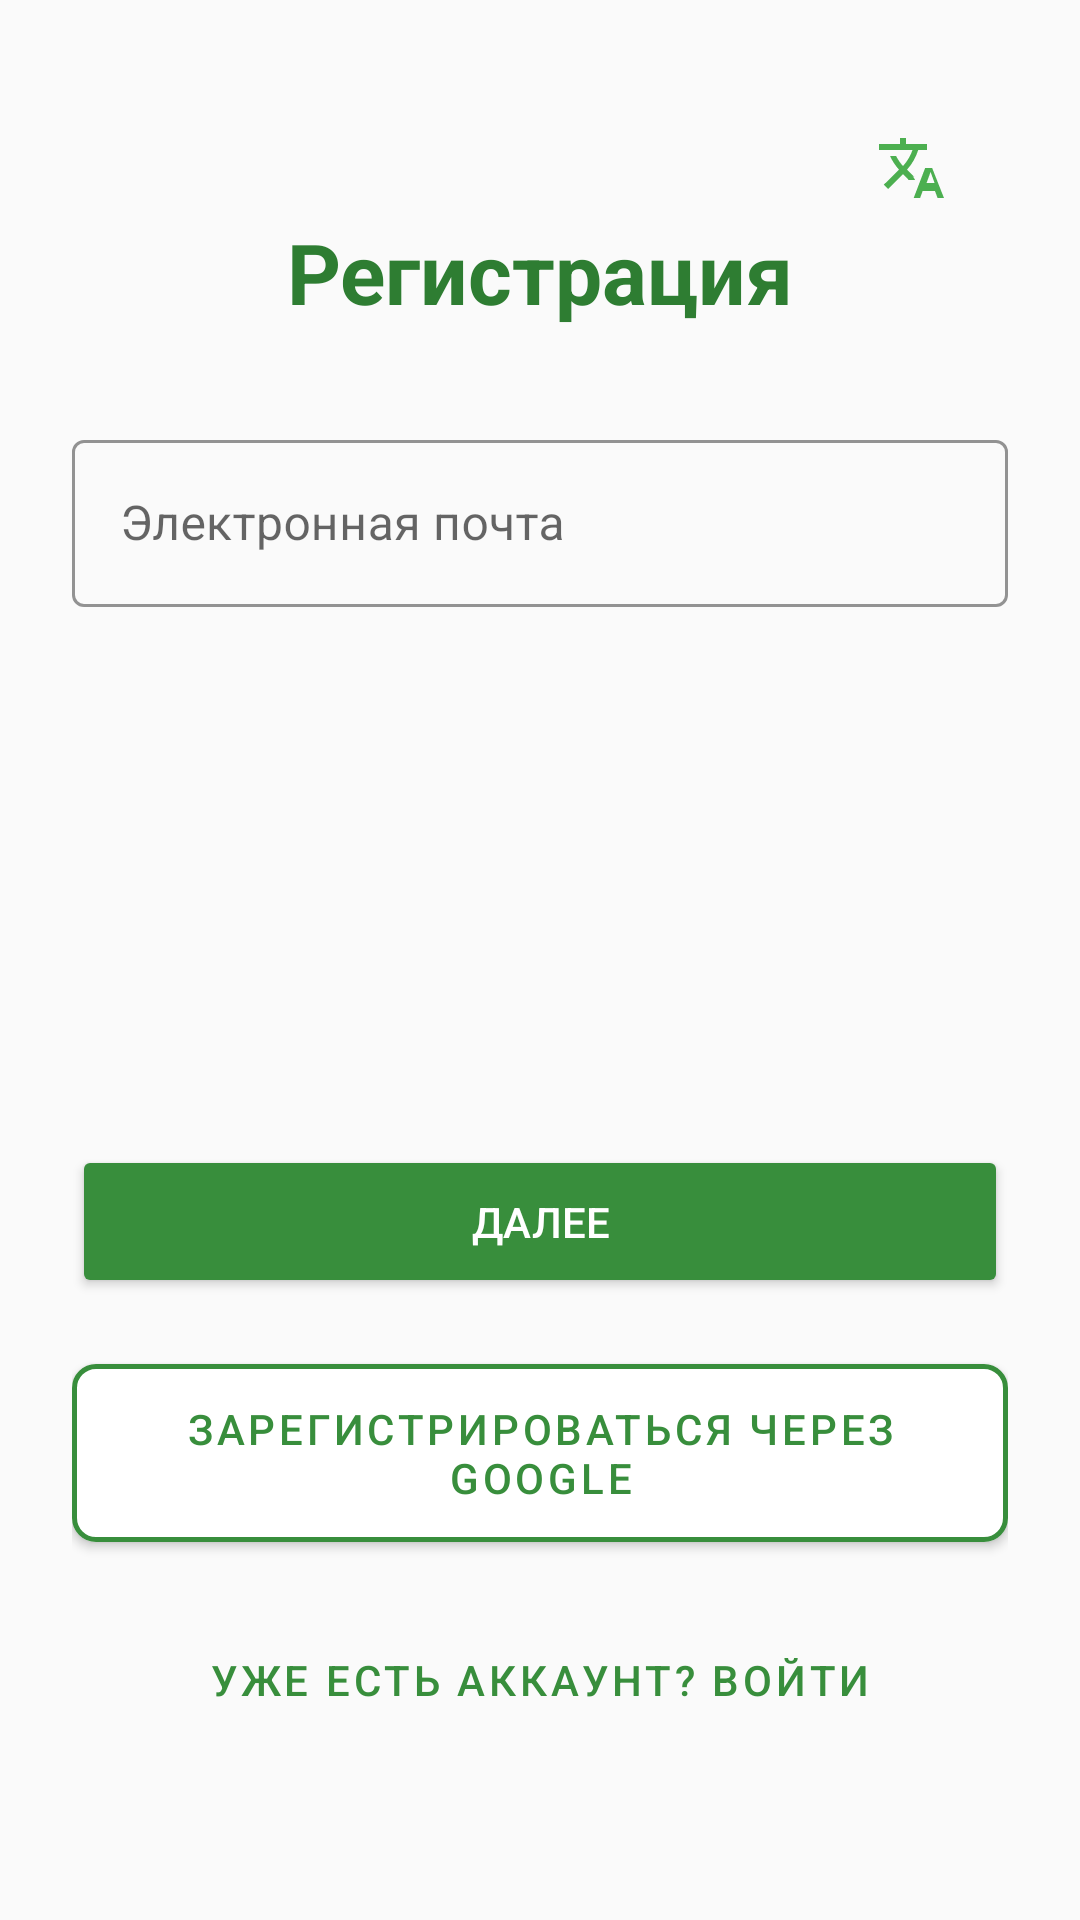

Icons on this 1080w x 1920h Android screen, each with the point to tap as [x,y]:
language: [911,168]
